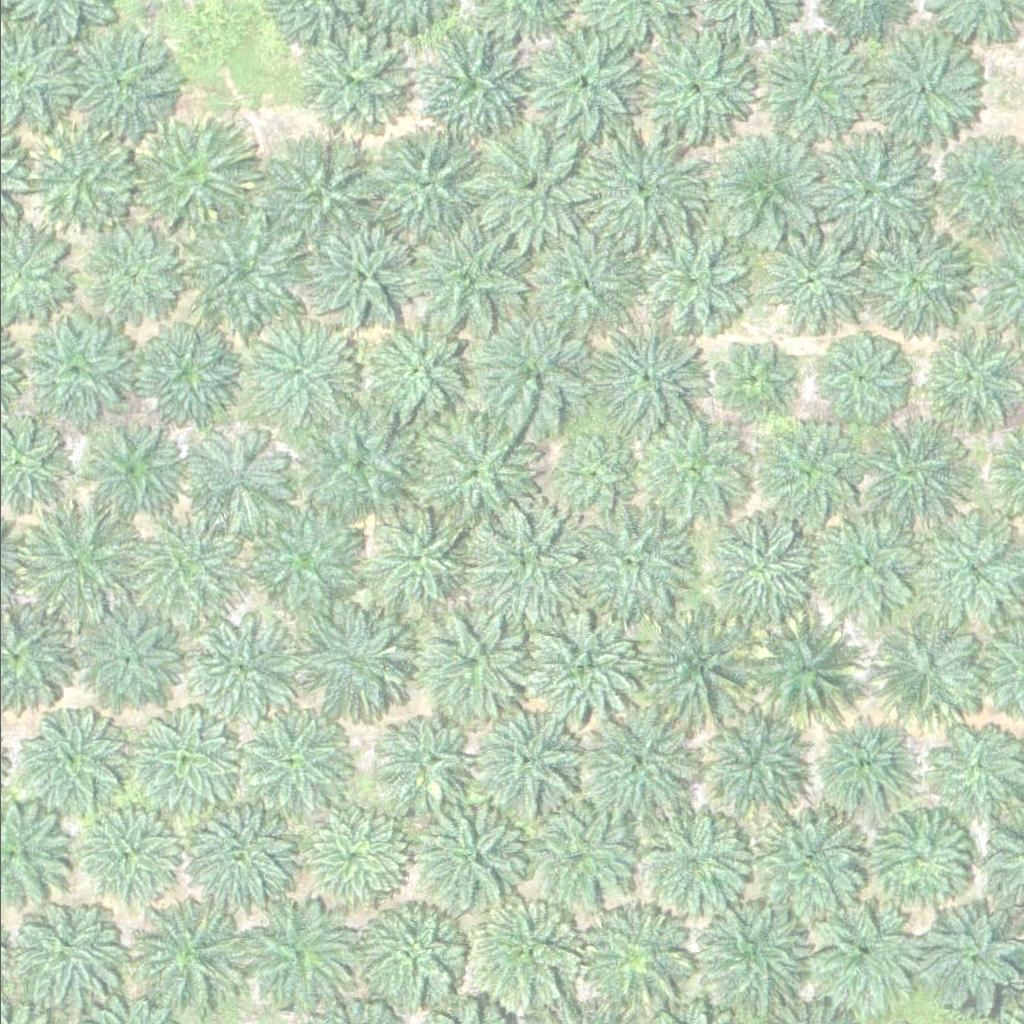Kelapa_Sawit: (801, 131, 927, 256), (580, 124, 706, 249), (465, 120, 591, 245), (409, 416, 535, 541), (562, 502, 688, 627), (122, 111, 247, 236), (699, 507, 813, 620), (856, 418, 970, 531), (526, 225, 640, 338), (633, 222, 747, 335), (123, 704, 237, 817), (68, 598, 182, 711), (687, 898, 800, 1011), (749, 804, 862, 917), (706, 133, 819, 246), (752, 27, 865, 140), (870, 30, 983, 143), (302, 221, 415, 334), (406, 218, 519, 331), (122, 317, 235, 430), (470, 508, 583, 621), (293, 602, 406, 715), (413, 605, 526, 718), (517, 610, 630, 723), (234, 707, 347, 820), (585, 317, 699, 429), (471, 319, 585, 431), (292, 407, 406, 519), (241, 502, 355, 614), (182, 616, 296, 728), (21, 507, 135, 619), (801, 899, 914, 1011), (690, 709, 803, 821), (871, 611, 984, 723), (746, 616, 859, 728), (862, 223, 975, 335), (296, 25, 409, 137), (421, 32, 534, 144), (524, 24, 637, 136), (634, 29, 747, 141), (364, 129, 477, 241), (266, 136, 379, 248), (179, 218, 292, 330), (122, 506, 235, 618), (641, 611, 754, 723), (581, 706, 694, 818), (472, 702, 585, 814), (178, 794, 291, 906), (295, 800, 408, 912), (409, 801, 522, 913), (239, 899, 352, 1011), (125, 894, 238, 1006), (14, 895, 127, 1007), (870, 810, 971, 910), (811, 715, 912, 815), (760, 232, 861, 332), (249, 325, 350, 425), (78, 419, 179, 519), (636, 419, 737, 519), (380, 712, 481, 812), (537, 800, 638, 900), (646, 810, 747, 910), (588, 910, 689, 1010), (471, 902, 572, 1002), (362, 905, 463, 1005), (19, 712, 120, 812), (25, 320, 126, 420), (82, 223, 183, 323), (32, 129, 133, 229), (70, 39, 171, 139), (818, 516, 918, 616), (758, 424, 858, 524), (367, 318, 467, 418), (182, 425, 282, 525), (371, 511, 471, 611), (76, 807, 176, 907), (814, 335, 902, 423), (919, 337, 1007, 425), (711, 338, 787, 413), (552, 440, 628, 515)
